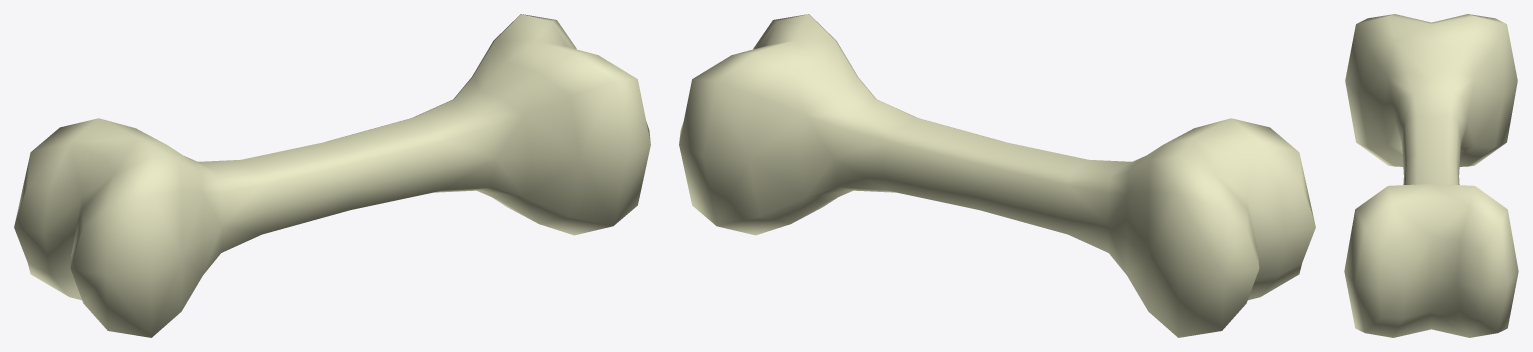
The model's file is Bone.fbx.
The picture shows the model from 3 angles, left to right: view 1: azimuth 30°, elevation 25°; view 2: azimuth 150°, elevation 25°; view 3: azimuth 270°, elevation 25°; orthographic projection. The views are drawn at different scales.
Visible parts, largest first — view 1: Bone; view 2: Bone; view 3: Bone.
Boxes of the visible parts, left/top/right/bottom form: Bone: left=14, top=14, right=650, bottom=337; Bone: left=679, top=14, right=1315, bottom=337; Bone: left=1344, top=14, right=1518, bottom=337.
Bounding box in the file's own units: 1.45 × 0.4396 × 0.4615.
